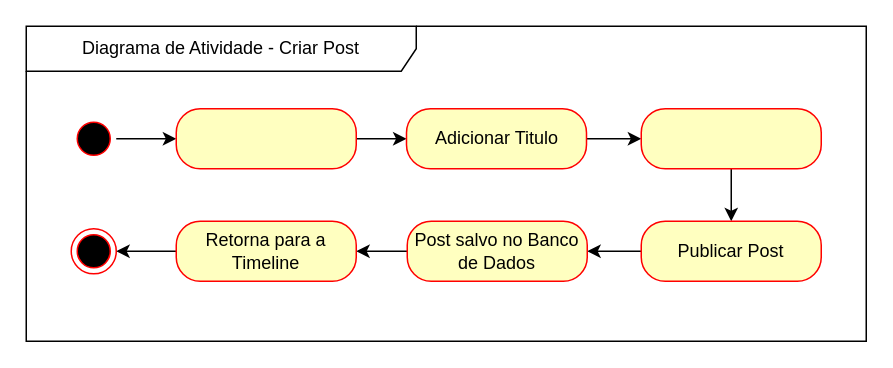
The diagram is 893 pixels wide and 368 high, and some of its shapes have lost their labels. The box of each missing label's shape, as (x1, y1, x2, y2) in pixels:
Adicionar Conteudo: (640, 107, 821, 169)
Clicar em Adicionar Post: (175, 107, 356, 169)
